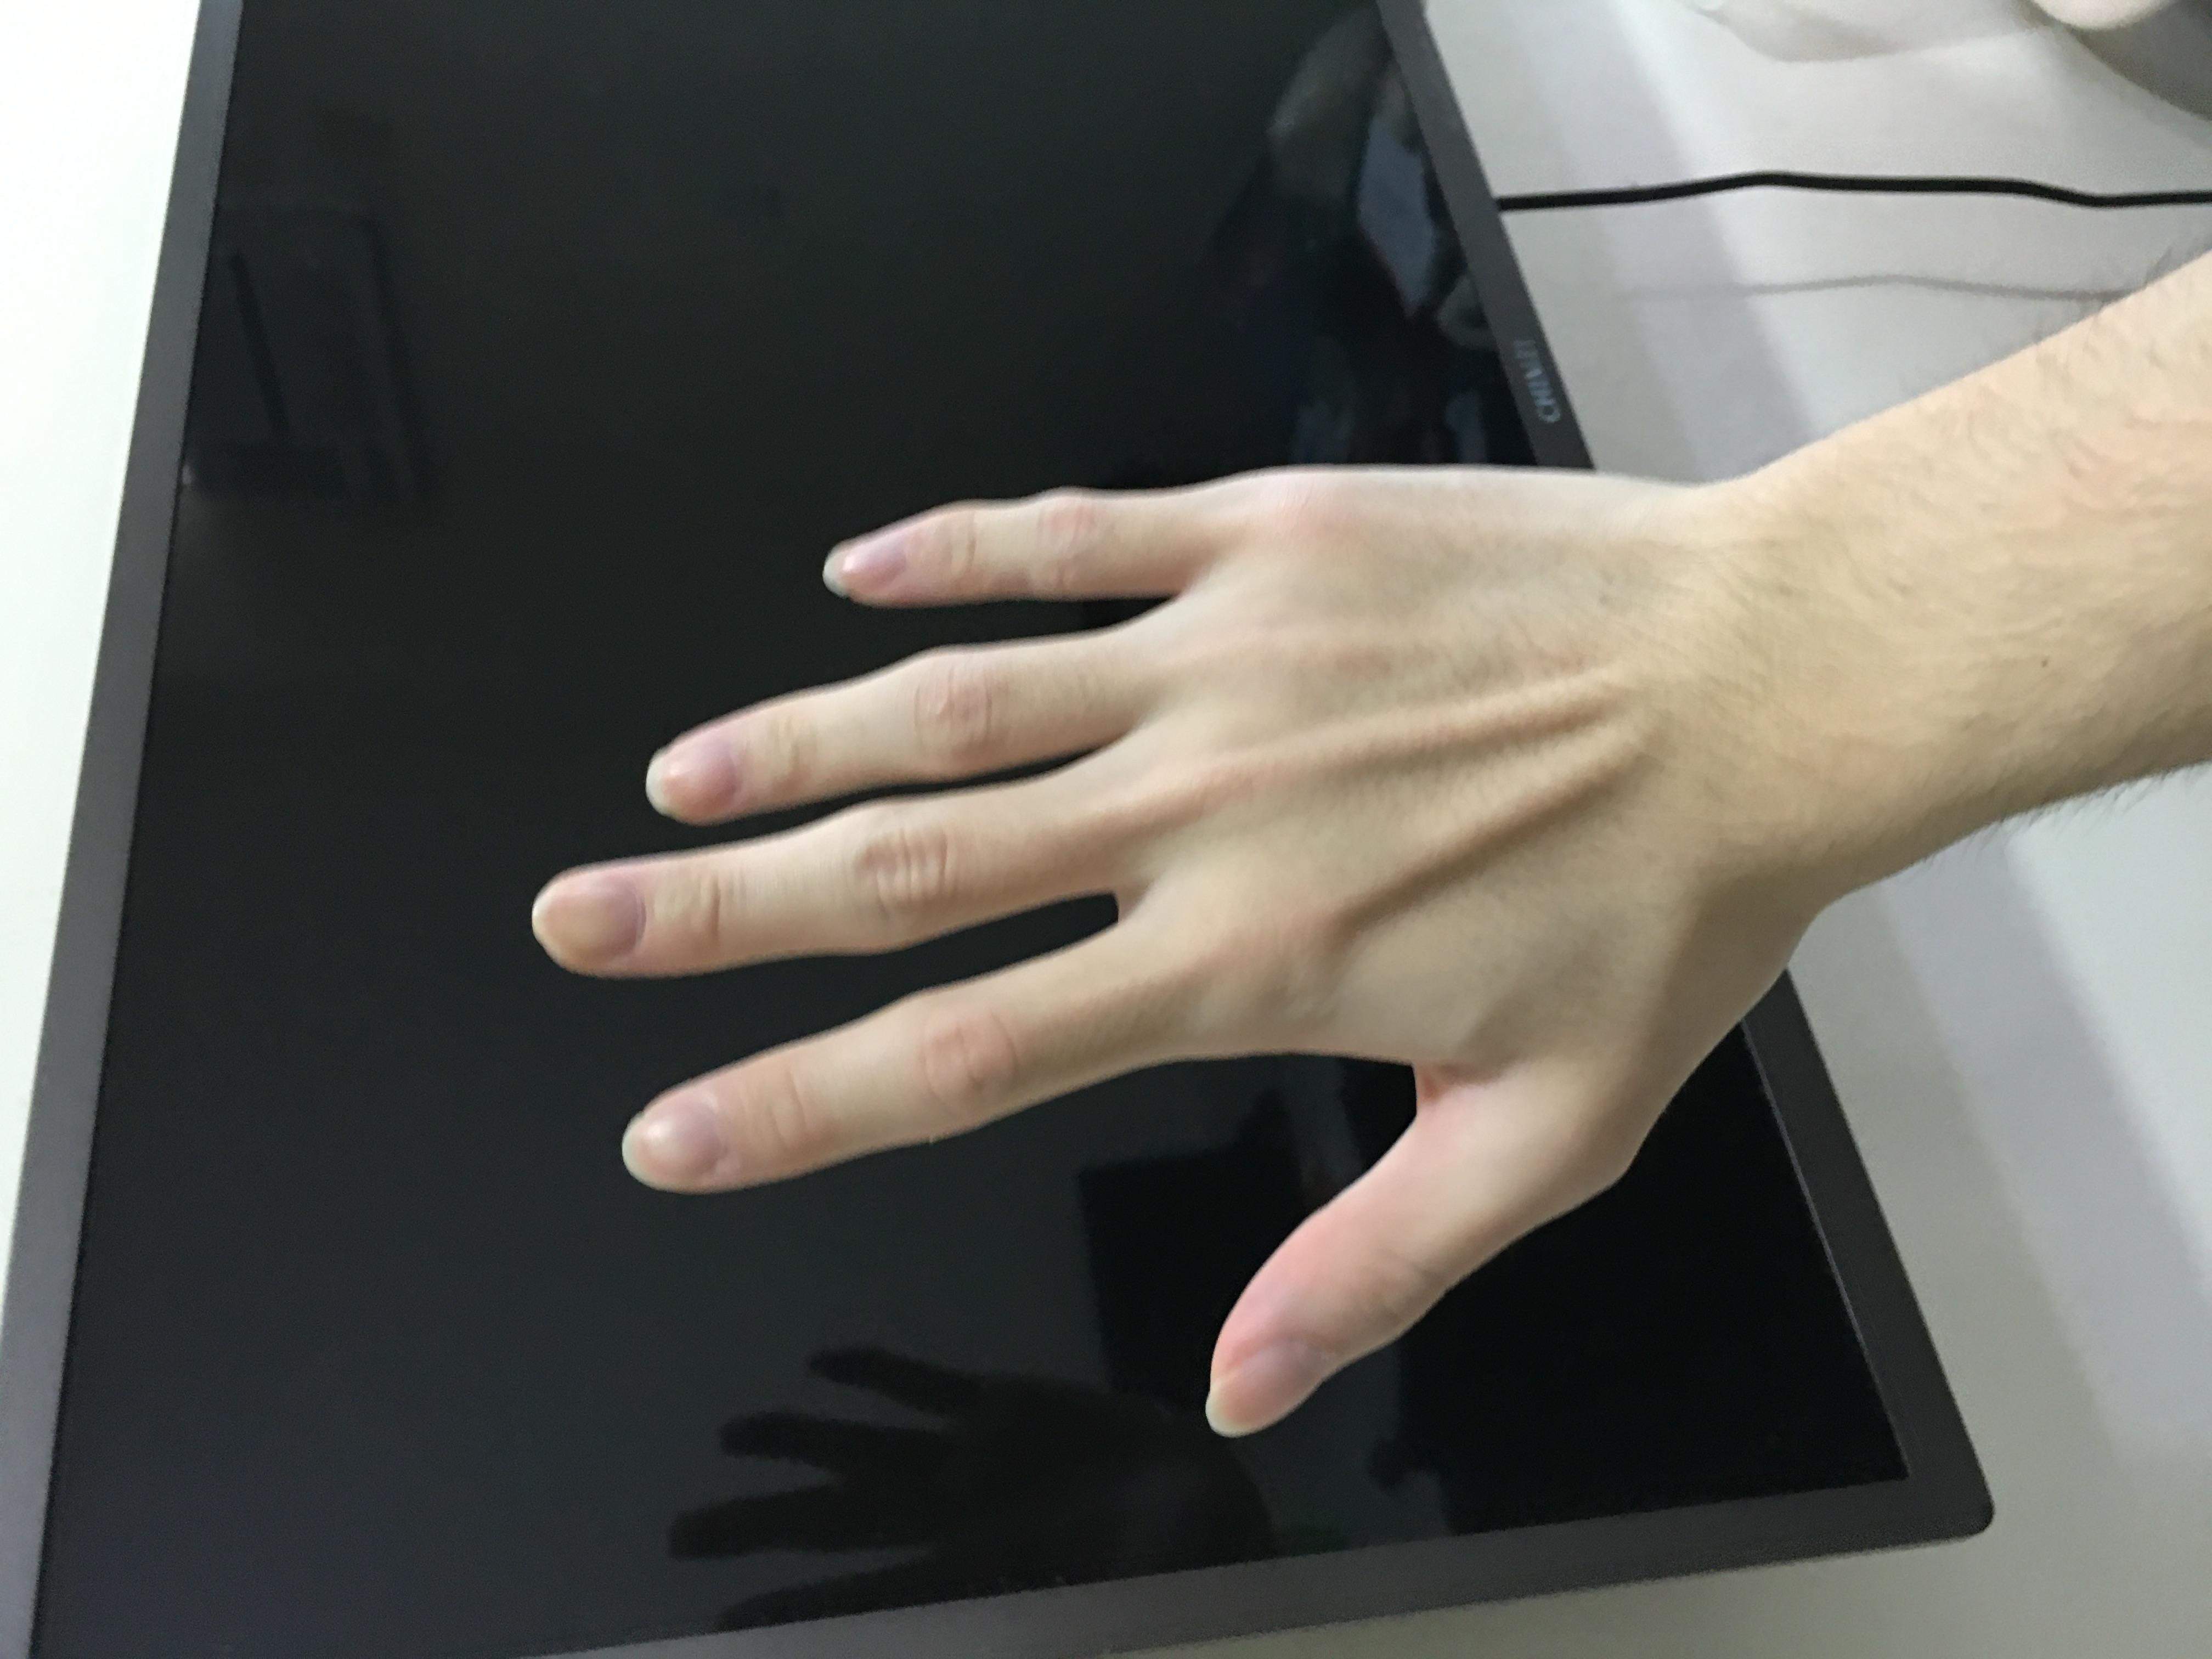hand: (294, 375, 1613, 1335)
